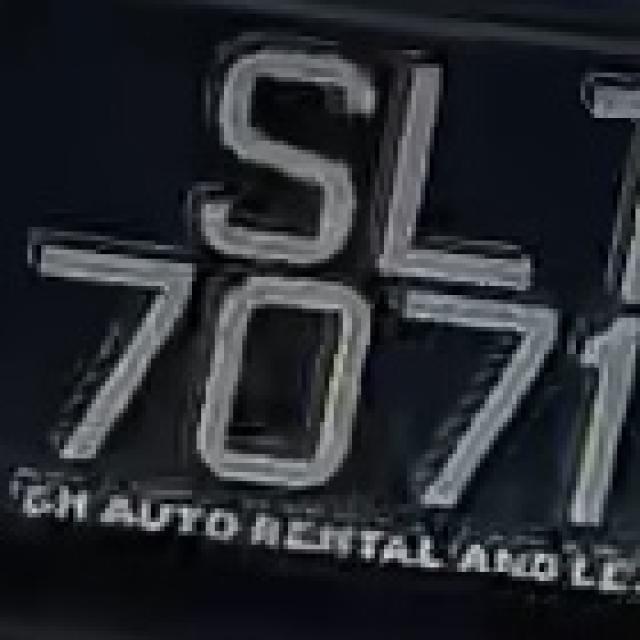0: (183, 264, 384, 500)
1: (558, 299, 631, 563)
7: (14, 218, 192, 486), (384, 258, 549, 544)
L: (361, 45, 553, 309)
S: (201, 23, 361, 281)
T: (553, 68, 640, 309)
